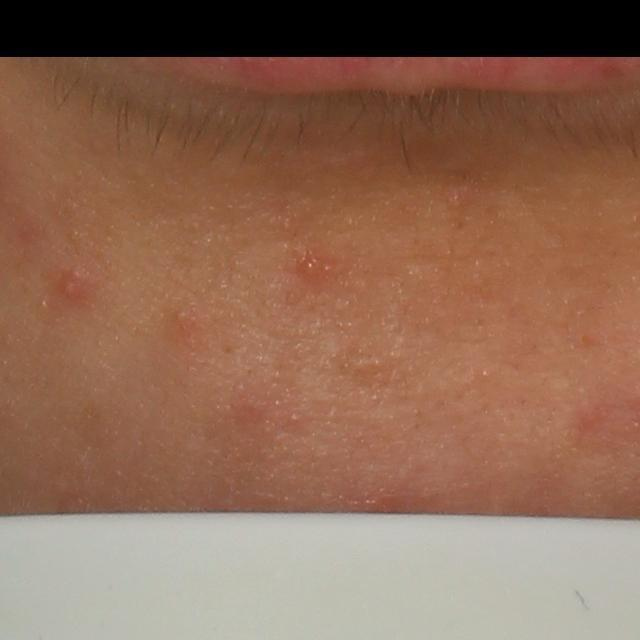papule: (292, 246, 332, 286), (57, 267, 88, 300)
